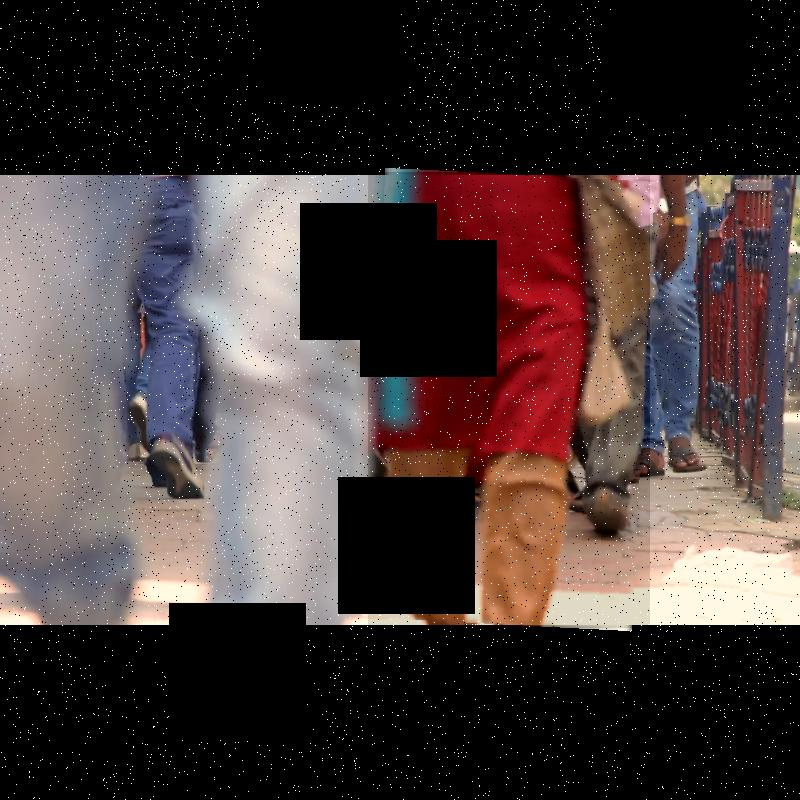Churidaar: (368, 172, 650, 628)
